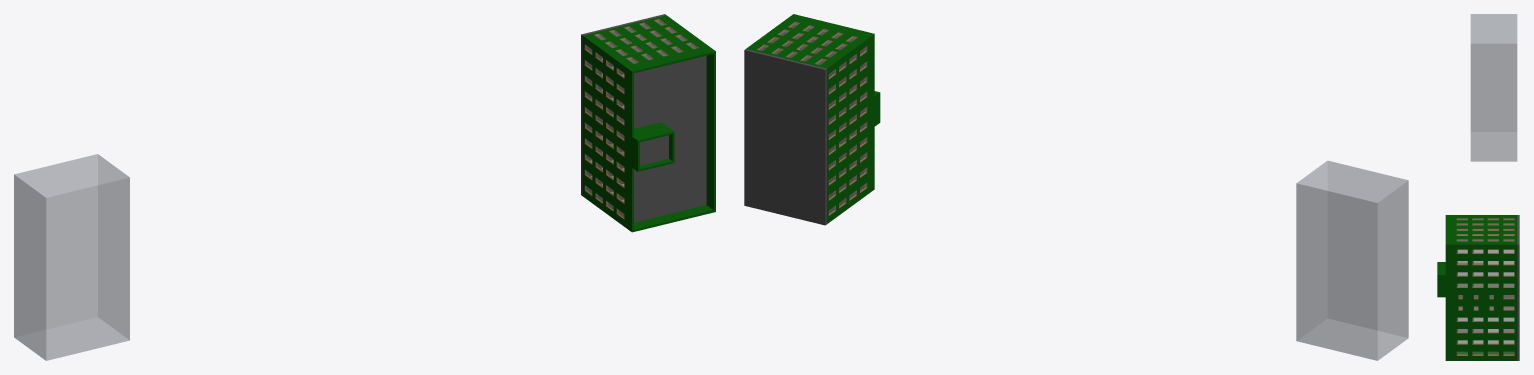
File: example.obj
3 views of the same model, side by side, from view 1: azimuth 30°, elevation 25°; view 2: azimuth 150°, elevation 25°; view 3: azimuth 270°, elevation 25° (orthographic). The views are drawn at different scales.
Visible parts, largest first — view 1: product-ed886cb2-5128-486c-bf04-7a96a36417b5-body, product-c7575295-f5f8-4d9a-a4c5-4985bc82a9b8-body, product-8c3777f0-cbea-468d-a0dd-b16c13e096b7-body, product-0e9dece7-2f9c-4586-8908-6515c20458d7-body, product-77cb30f1-d8c8-4185-8414-1a07c1ff6a72-body, product-7096e3d5-6e15-4b8d-8738-950e46bbdfb3-body, product-c7575295-f5f8-4d9a-a4c5-4985bc82a94d-body, product-77cb30f1-d8c8-4185-8414-1a07c1ff6a5a-body, product-8c3777f0-cbea-468d-a0dd-b16c13e096b0-body, product-2db14ffa-5b44-45ba-8097-29992fa0efd5-body, product-77cb30f1-d8c8-4185-8414-1a07c1ff6a77-body, product-7096e3d5-6e15-4b8d-8738-950e46bbdf8c-body (+5 smaller); view 2: product-ed886cb2-5128-486c-bf04-7a96a36417b5-body, product-77cb30f1-d8c8-4185-8414-1a07c1ff6a5a-body, product-77cb30f1-d8c8-4185-8414-1a07c1ff6a72-body, product-0e9dece7-2f9c-4586-8908-6515c20458d7-body, product-7096e3d5-6e15-4b8d-8738-950e46bbdfb3-body, product-c7575295-f5f8-4d9a-a4c5-4985bc82a94d-body, product-2db14ffa-5b44-45ba-8097-29992fa0efd5-body, product-7096e3d5-6e15-4b8d-8738-950e46bbdf8c-body, product-77cb30f1-d8c8-4185-8414-1a07c1ff6a77-body, product-c7575295-f5f8-4d9a-a4c5-4985bc82a940-body, product-8c3777f0-cbea-468d-a0dd-b16c13e096b0-body; view 3: product-ed886cb2-5128-486c-bf04-7a96a36417b5-body, product-7096e3d5-6e15-4b8d-8738-950e46bbdf8d-body, product-2db14ffa-5b44-45ba-8097-29992fa0eebe-body, product-77cb30f1-d8c8-4185-8414-1a07c1ff6a70-body, product-c7575295-f5f8-4d9a-a4c5-4985bc82a943-body, product-8c3777f0-cbea-468d-a0dd-b16c13e096b7-body, product-2db14ffa-5b44-45ba-8097-29992fa0efd5-body, product-7096e3d5-6e15-4b8d-8738-950e46bbdf8c-body, product-77cb30f1-d8c8-4185-8414-1a07c1ff6a5a-body, product-77cb30f1-d8c8-4185-8414-1a07c1ff6a77-body, product-c7575295-f5f8-4d9a-a4c5-4985bc82a940-body, product-8c3777f0-cbea-468d-a0dd-b16c13e096b0-body (+2 smaller).
Part boxes in pixels (box(x1,y1,x2,y2)): product-ed886cb2-5128-486c-bf04-7a96a36417b5-body: box(14, 154, 129, 360); product-c7575295-f5f8-4d9a-a4c5-4985bc82a9b8-body: box(634, 55, 706, 222); product-8c3777f0-cbea-468d-a0dd-b16c13e096b7-body: box(706, 53, 715, 212); product-0e9dece7-2f9c-4586-8908-6515c20458d7-body: box(582, 38, 593, 201); product-77cb30f1-d8c8-4185-8414-1a07c1ff6a72-body: box(593, 46, 604, 209); product-7096e3d5-6e15-4b8d-8738-950e46bbdfb3-body: box(604, 54, 614, 217); product-c7575295-f5f8-4d9a-a4c5-4985bc82a94d-body: box(615, 61, 625, 224); product-77cb30f1-d8c8-4185-8414-1a07c1ff6a5a-body: box(581, 14, 666, 195); product-8c3777f0-cbea-468d-a0dd-b16c13e096b0-body: box(624, 46, 715, 73); product-2db14ffa-5b44-45ba-8097-29992fa0efd5-body: box(582, 15, 676, 45); product-77cb30f1-d8c8-4185-8414-1a07c1ff6a77-body: box(593, 23, 687, 52); product-7096e3d5-6e15-4b8d-8738-950e46bbdf8c-body: box(604, 31, 698, 60); product-ed886cb2-5128-486c-bf04-7a96a36417b5-body: box(1296, 160, 1408, 360); product-77cb30f1-d8c8-4185-8414-1a07c1ff6a5a-body: box(744, 49, 826, 225); product-77cb30f1-d8c8-4185-8414-1a07c1ff6a72-body: box(837, 56, 847, 214); product-0e9dece7-2f9c-4586-8908-6515c20458d7-body: box(827, 63, 837, 221); product-7096e3d5-6e15-4b8d-8738-950e46bbdfb3-body: box(847, 48, 857, 206); product-c7575295-f5f8-4d9a-a4c5-4985bc82a94d-body: box(858, 41, 868, 199); product-2db14ffa-5b44-45ba-8097-29992fa0efd5-body: box(746, 41, 837, 70); product-7096e3d5-6e15-4b8d-8738-950e46bbdf8c-body: box(767, 26, 857, 55); product-77cb30f1-d8c8-4185-8414-1a07c1ff6a77-body: box(756, 33, 847, 62); product-c7575295-f5f8-4d9a-a4c5-4985bc82a940-body: box(777, 18, 867, 47); product-8c3777f0-cbea-468d-a0dd-b16c13e096b0-body: box(787, 14, 874, 40); product-ed886cb2-5128-486c-bf04-7a96a36417b5-body: box(1470, 14, 1517, 161); product-7096e3d5-6e15-4b8d-8738-950e46bbdf8d-body: box(1470, 246, 1486, 360); product-2db14ffa-5b44-45ba-8097-29992fa0eebe-body: box(1501, 246, 1517, 360); product-77cb30f1-d8c8-4185-8414-1a07c1ff6a70-body: box(1486, 246, 1501, 360); product-c7575295-f5f8-4d9a-a4c5-4985bc82a943-body: box(1455, 246, 1470, 360); product-8c3777f0-cbea-468d-a0dd-b16c13e096b7-body: box(1445, 246, 1456, 360); product-2db14ffa-5b44-45ba-8097-29992fa0efd5-body: box(1501, 215, 1517, 245); product-7096e3d5-6e15-4b8d-8738-950e46bbdf8c-body: box(1470, 215, 1486, 245); product-77cb30f1-d8c8-4185-8414-1a07c1ff6a5a-body: box(1517, 215, 1519, 360); product-77cb30f1-d8c8-4185-8414-1a07c1ff6a77-body: box(1486, 215, 1501, 245); product-c7575295-f5f8-4d9a-a4c5-4985bc82a940-body: box(1455, 215, 1470, 245); product-8c3777f0-cbea-468d-a0dd-b16c13e096b0-body: box(1445, 215, 1456, 245).
Size of the model in its own units: 115 by 27.4 by 17.28.
